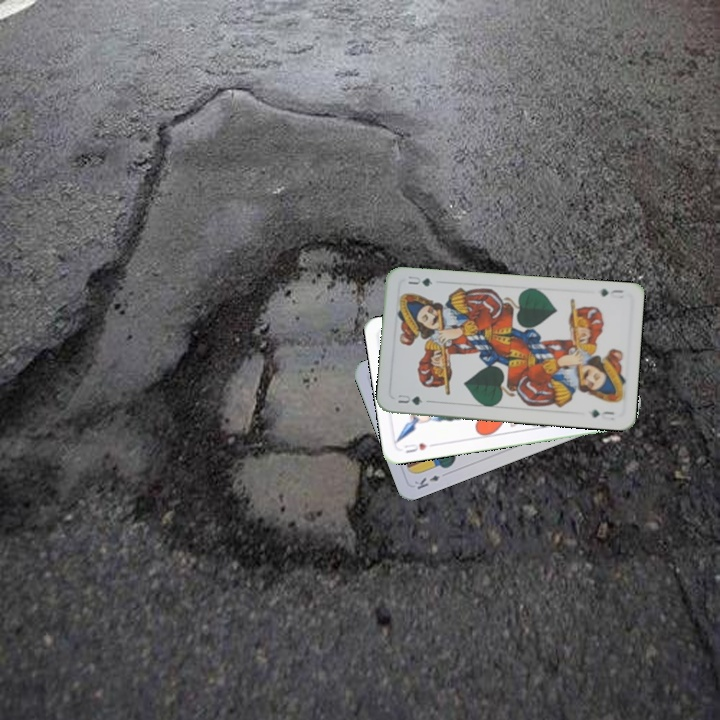EK: (410, 471, 443, 492)
GU: (394, 390, 426, 408), (597, 284, 626, 301)
HU: (400, 439, 437, 456)
